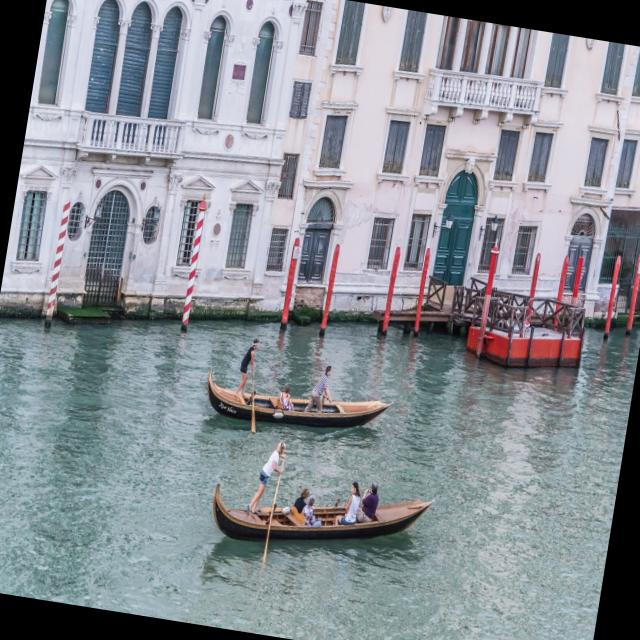boat: (202, 457, 442, 580), (198, 358, 400, 452)
